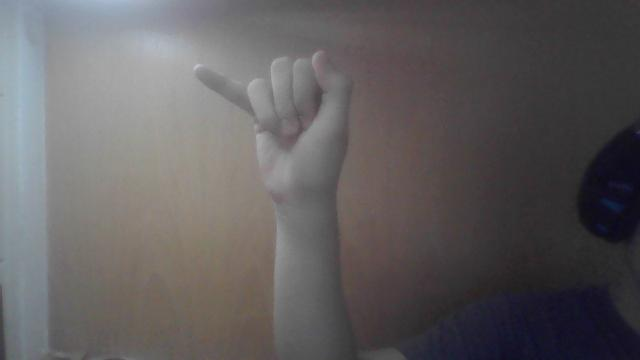Right: (200, 59, 350, 175)
